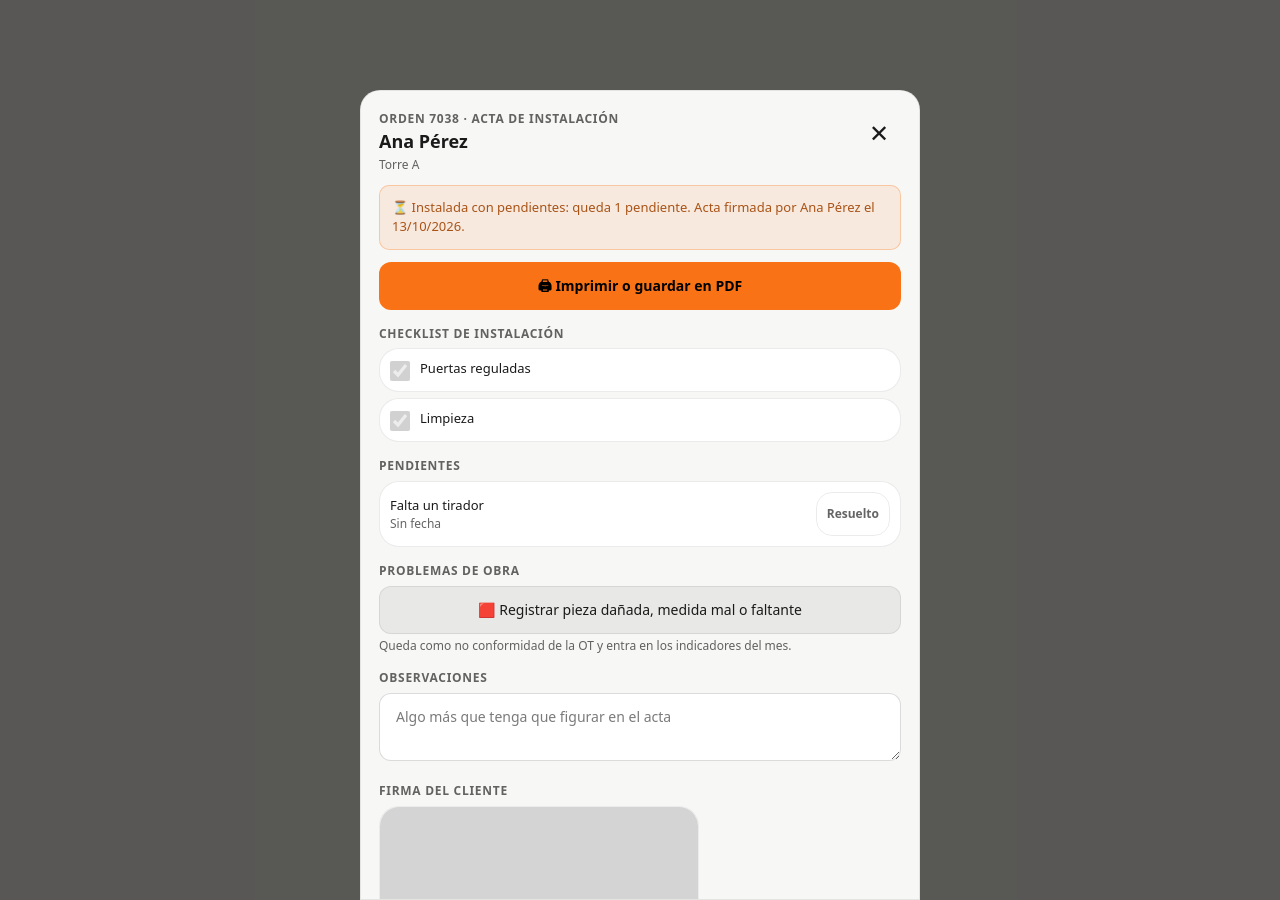
Test case: pantalla — firmada: estado, PDF, resolver pendientes y gestión reabre
The image size is (1280, 900).
Check: the button "🖨 Imprimir o guardar en PDF" is shown, box x1=379 y1=262 x2=901 y2=310
Check: the text "Firmar el acta" is not shown
Step 1. Click the button with aria-label "Resuelto: Falta un tirador" → (853, 514), box x1=816 y1=492 x2=890 y2=536
(page scrolled)
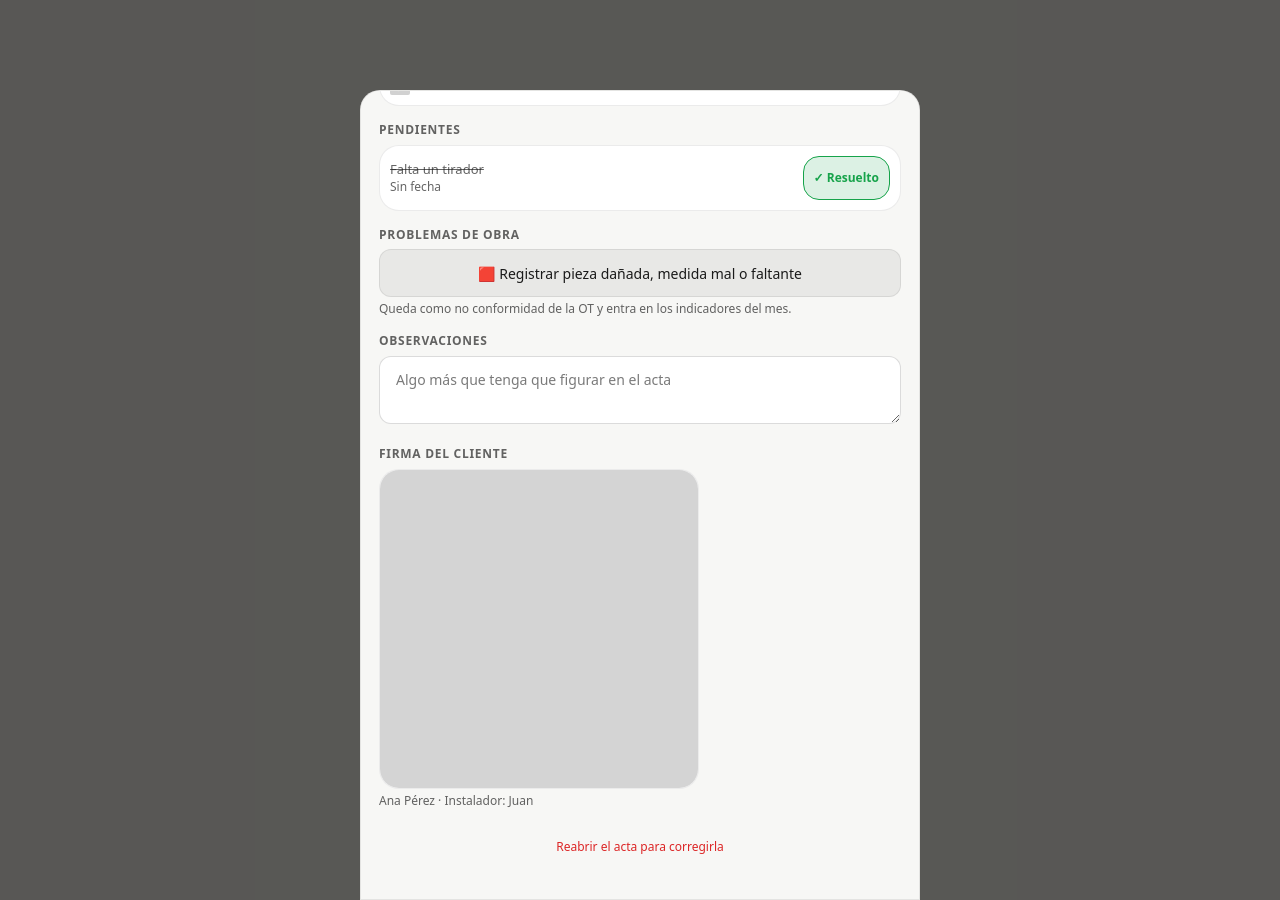
Step 2. Click the button "Reabrir el acta para corregirla" → (640, 847), box x1=379 y1=825 x2=901 y2=869
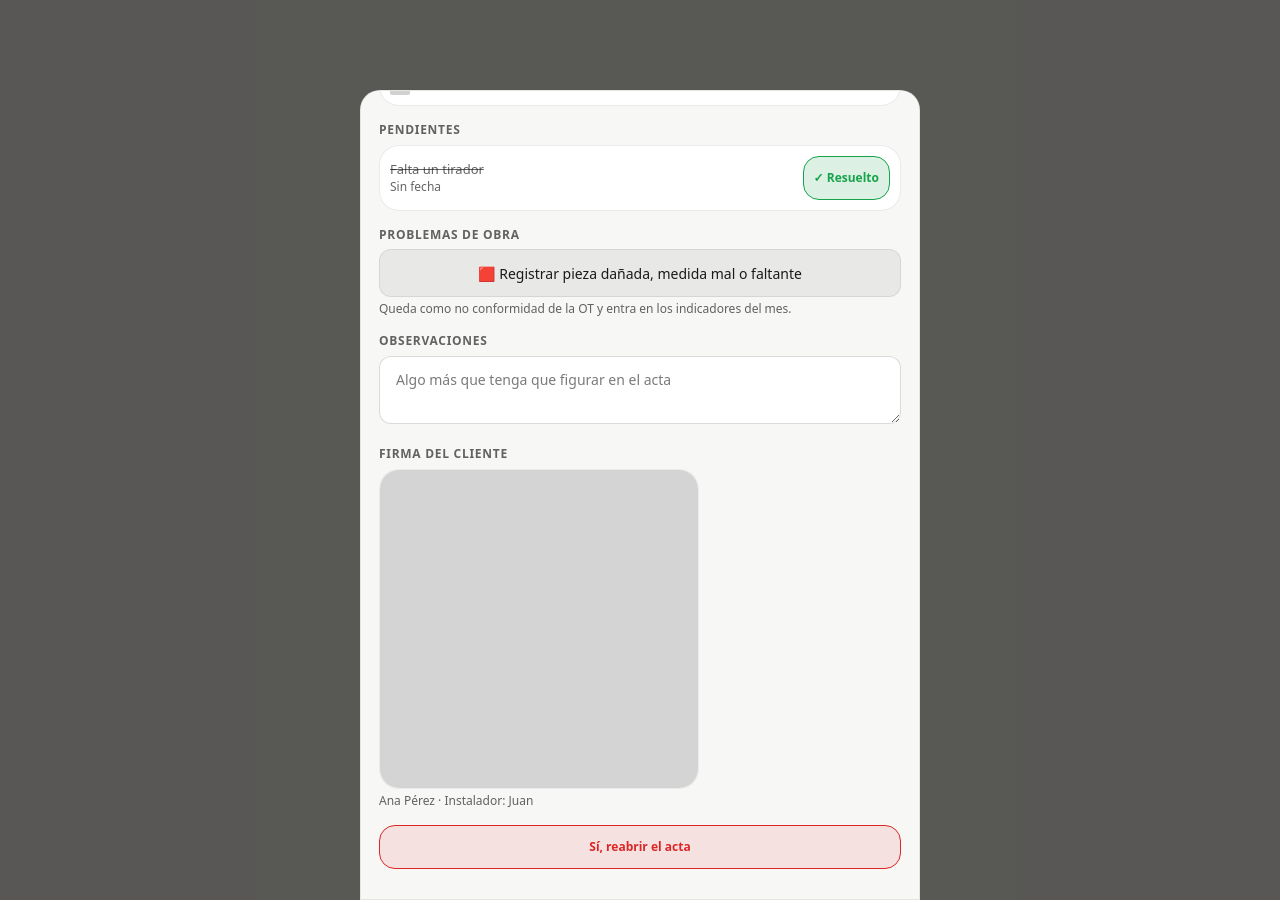
Step 3. Click the button "Sí, reabrir el acta" → (640, 847), box x1=379 y1=825 x2=901 y2=869
(page scrolled)
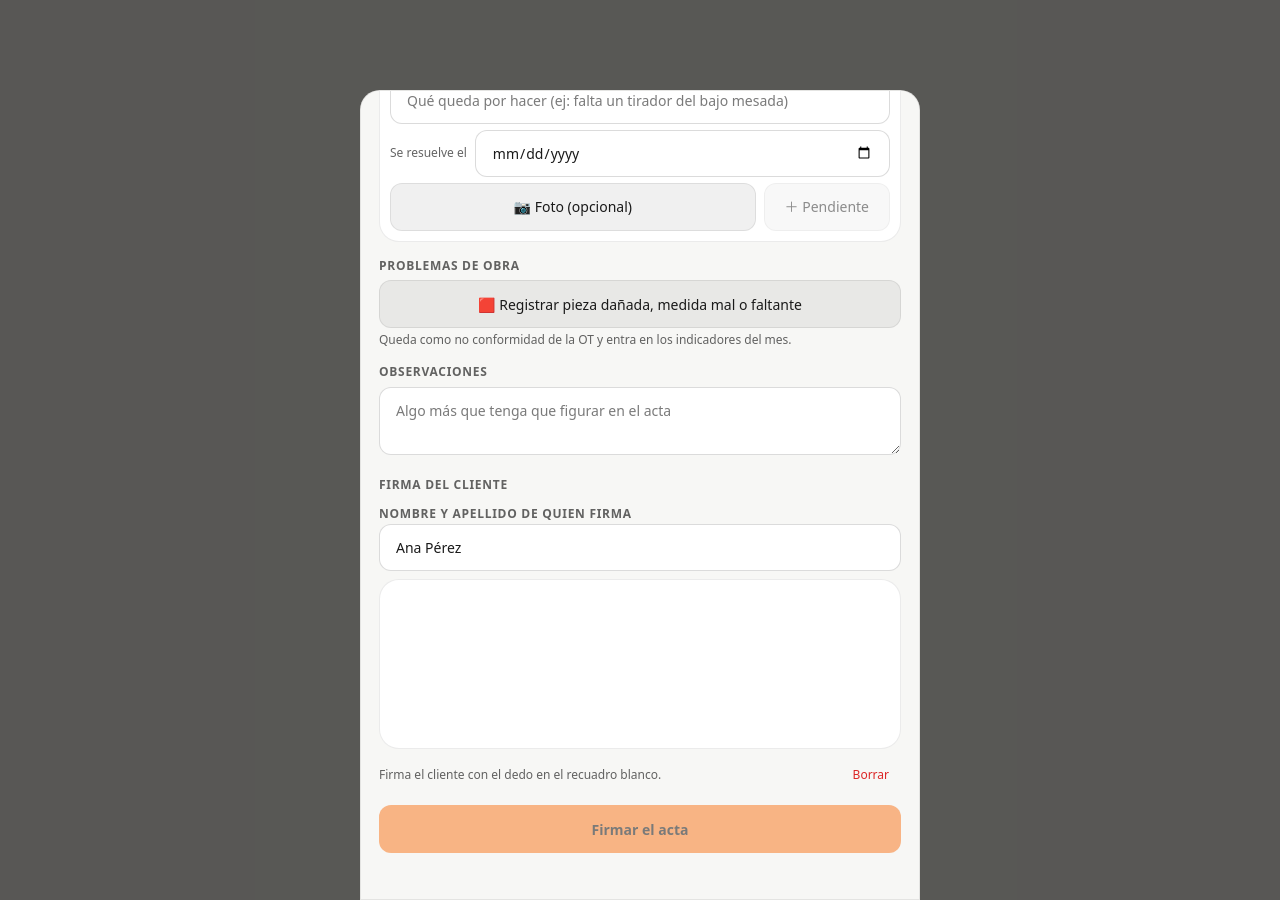
Check: the button "Firmar el acta" is shown, box x1=379 y1=805 x2=901 y2=853
